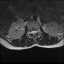CCS_normal: (33, 28, 35, 37)
LFS_normal: (37, 26, 39, 34)
LLS_normal: (35, 28, 37, 36)
RFS_normal: (29, 29, 31, 35)
RLS_normal: (31, 28, 33, 36)
